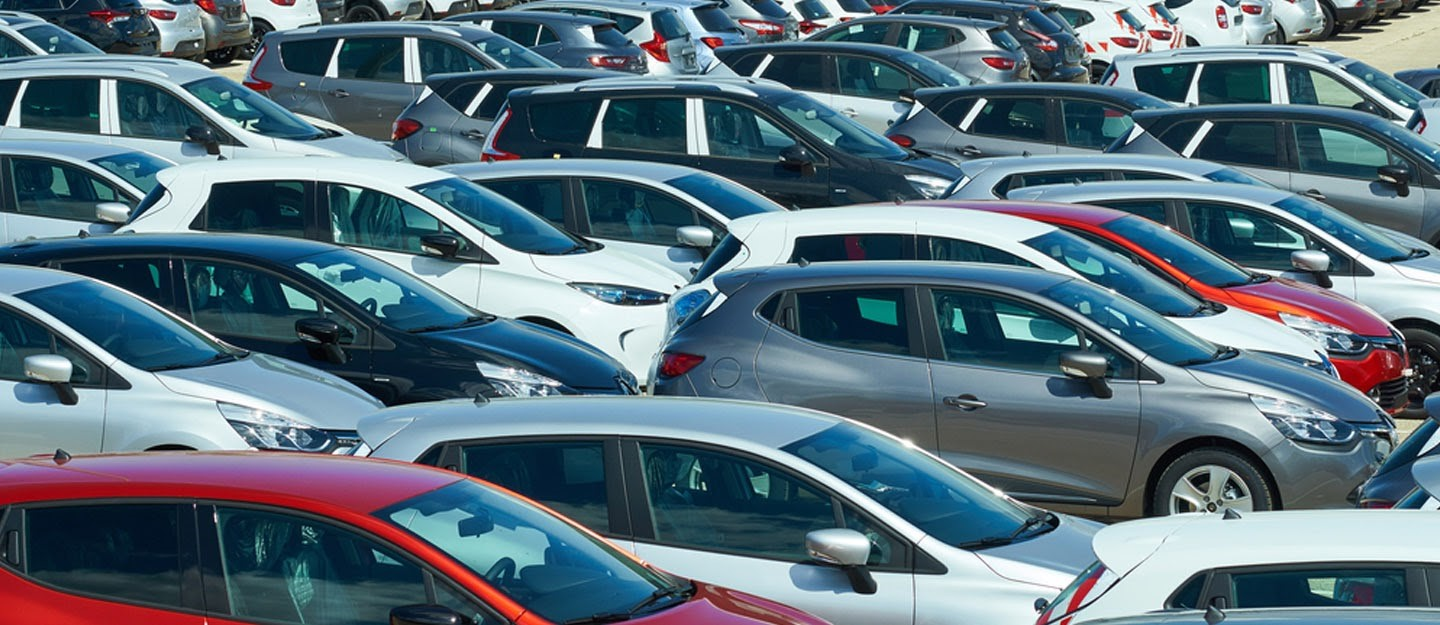Car: (648, 260, 1397, 522), (350, 393, 1104, 625), (0, 451, 831, 625), (115, 156, 686, 387), (856, 200, 1413, 412), (666, 205, 1338, 376), (0, 233, 640, 405), (1003, 180, 1440, 419), (0, 264, 383, 459), (480, 76, 960, 208), (1104, 103, 1440, 247), (1033, 507, 1440, 625), (0, 54, 414, 164), (436, 158, 786, 277), (243, 20, 559, 142), (1100, 45, 1427, 122), (706, 40, 974, 133), (391, 68, 638, 166), (885, 81, 1176, 160), (0, 139, 175, 244), (884, 0, 1089, 82), (807, 15, 1033, 83), (940, 154, 1273, 200), (510, 0, 700, 75), (442, 10, 649, 74), (616, 0, 751, 73), (1356, 393, 1440, 508), (1043, 0, 1153, 84), (0, 0, 160, 56), (1001, 0, 1094, 82), (1075, 605, 1440, 625), (0, 10, 103, 59), (243, 0, 325, 57), (1161, 0, 1247, 47), (1108, 0, 1187, 51), (140, 0, 206, 60), (194, 0, 252, 65), (712, 0, 799, 42), (1306, 0, 1369, 41), (1271, 0, 1323, 45), (777, 0, 838, 38), (344, 0, 427, 23), (1240, 0, 1279, 45), (1404, 98, 1440, 145), (1395, 64, 1440, 98), (1412, 453, 1440, 504), (825, 0, 876, 24), (1341, 0, 1377, 33), (426, 0, 478, 20), (1368, 0, 1403, 24), (316, 0, 346, 24), (867, 0, 904, 14), (1388, 0, 1415, 18), (477, 0, 504, 10), (1409, 0, 1429, 12)
